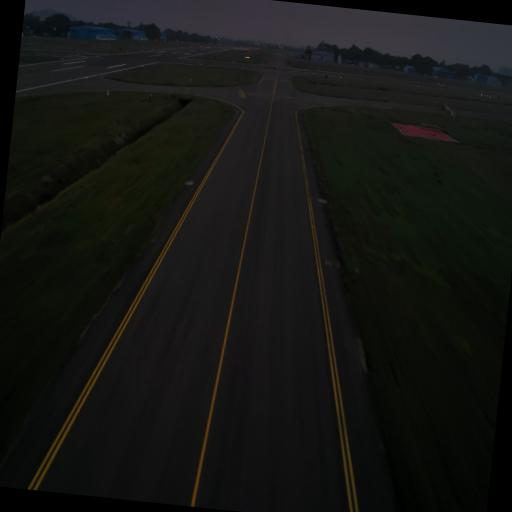on: (319, 196, 322, 202), (190, 178, 192, 184)
